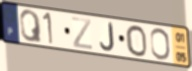1: (42, 12, 54, 47)
J: (99, 21, 115, 53)
O: (125, 25, 149, 59), (149, 27, 172, 61)
Q: (19, 9, 44, 44)
Z: (70, 16, 93, 52)
